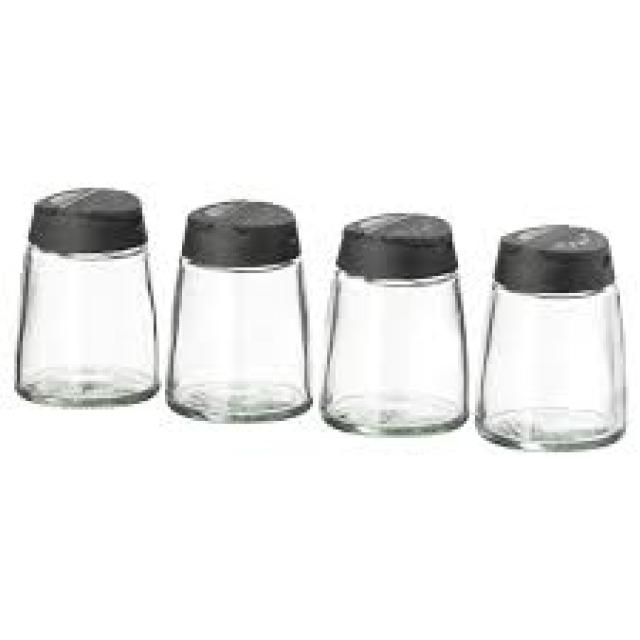glass: (475, 276, 623, 452), (316, 265, 467, 433), (165, 256, 307, 421), (15, 242, 157, 404)
plastic: (179, 196, 296, 265), (336, 210, 452, 279), (492, 225, 609, 290), (23, 188, 145, 250)
